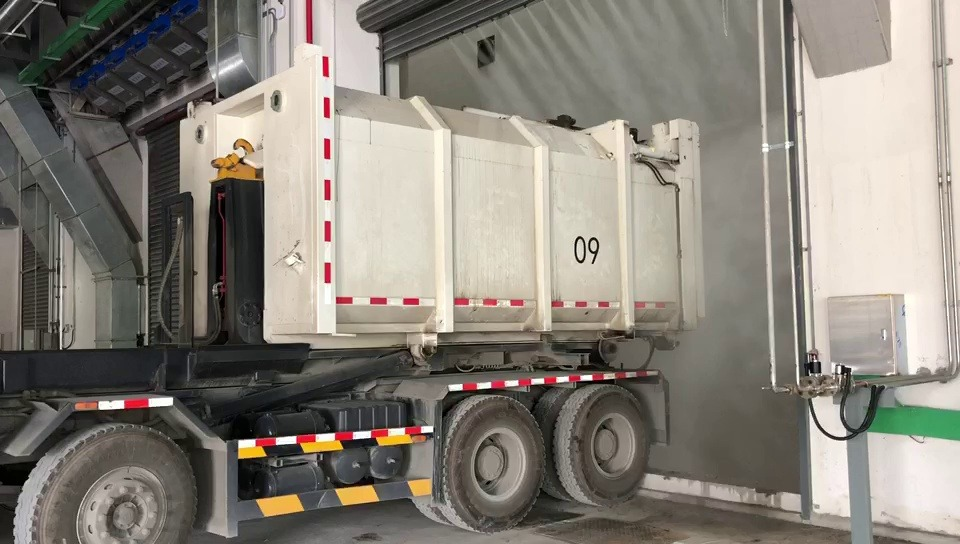truck: (0, 37, 710, 544)
